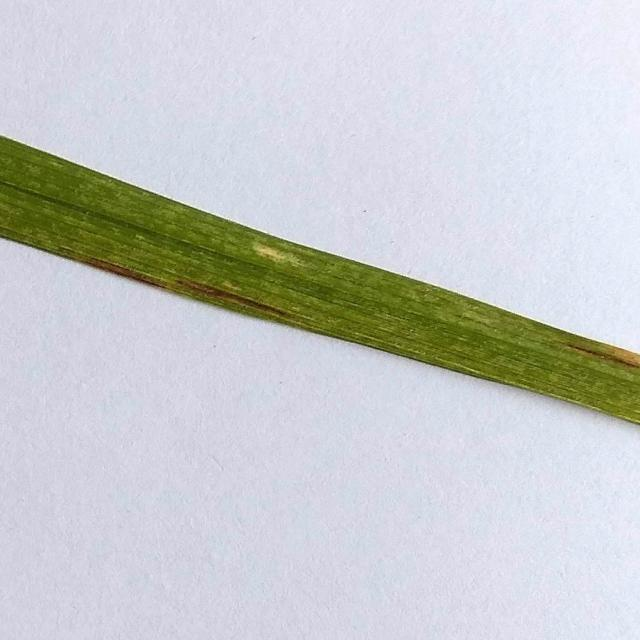Blast: (189, 279, 248, 304)
